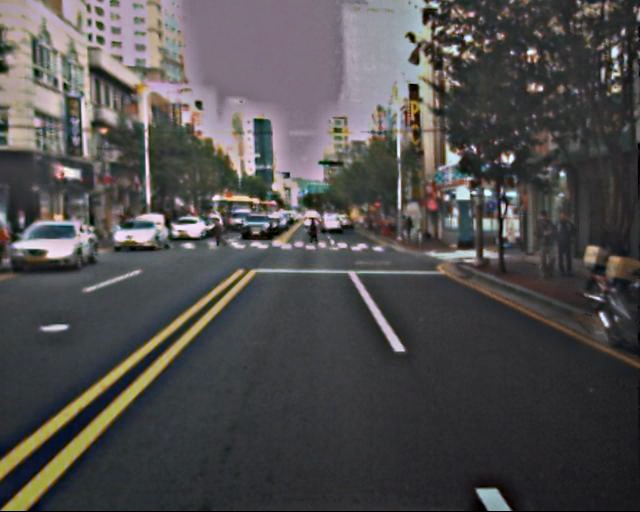person: (529, 210, 558, 280), (546, 210, 574, 279), (304, 214, 320, 252), (213, 218, 226, 249)
